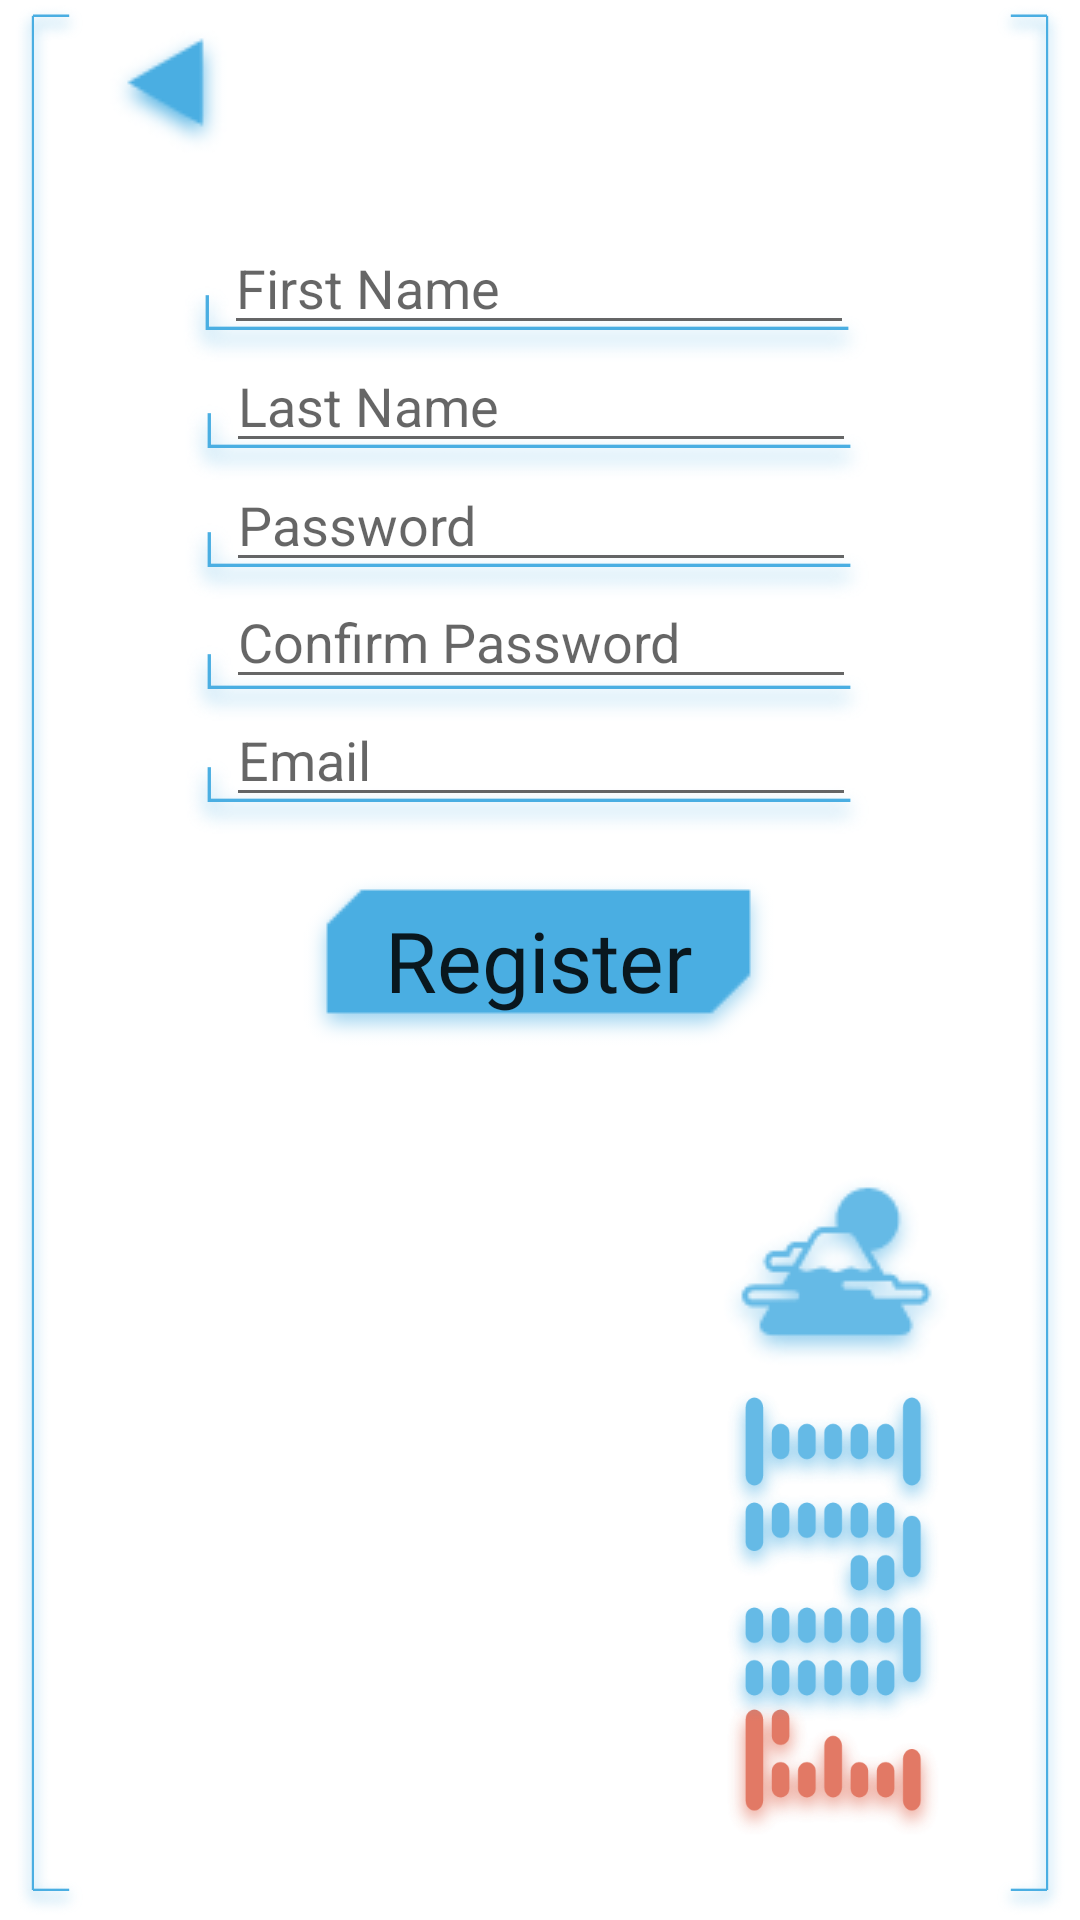

Screen size 1080*1920. Icon name, then its box in pixels as (x1, y1, x2, y2):
back: (127, 38, 213, 138)
